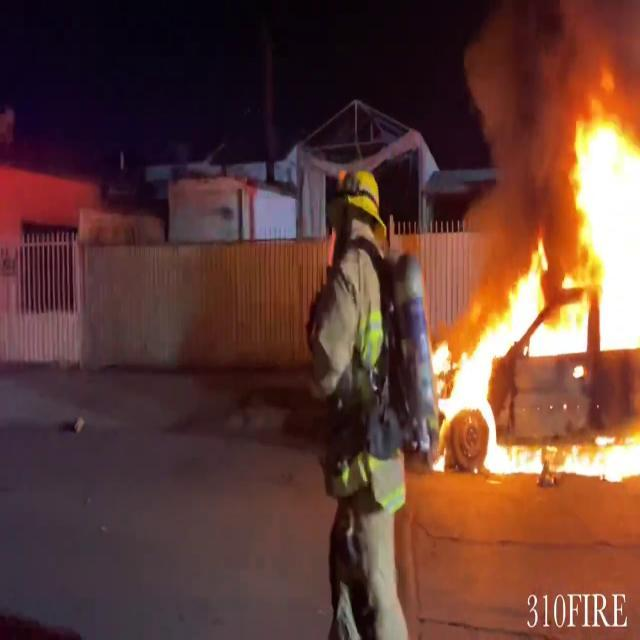Fire: (431, 91, 640, 485)
